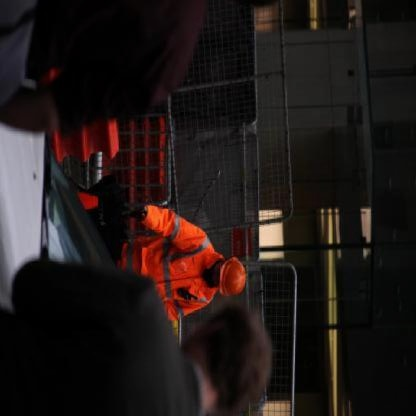vest: (166, 209, 213, 317)
